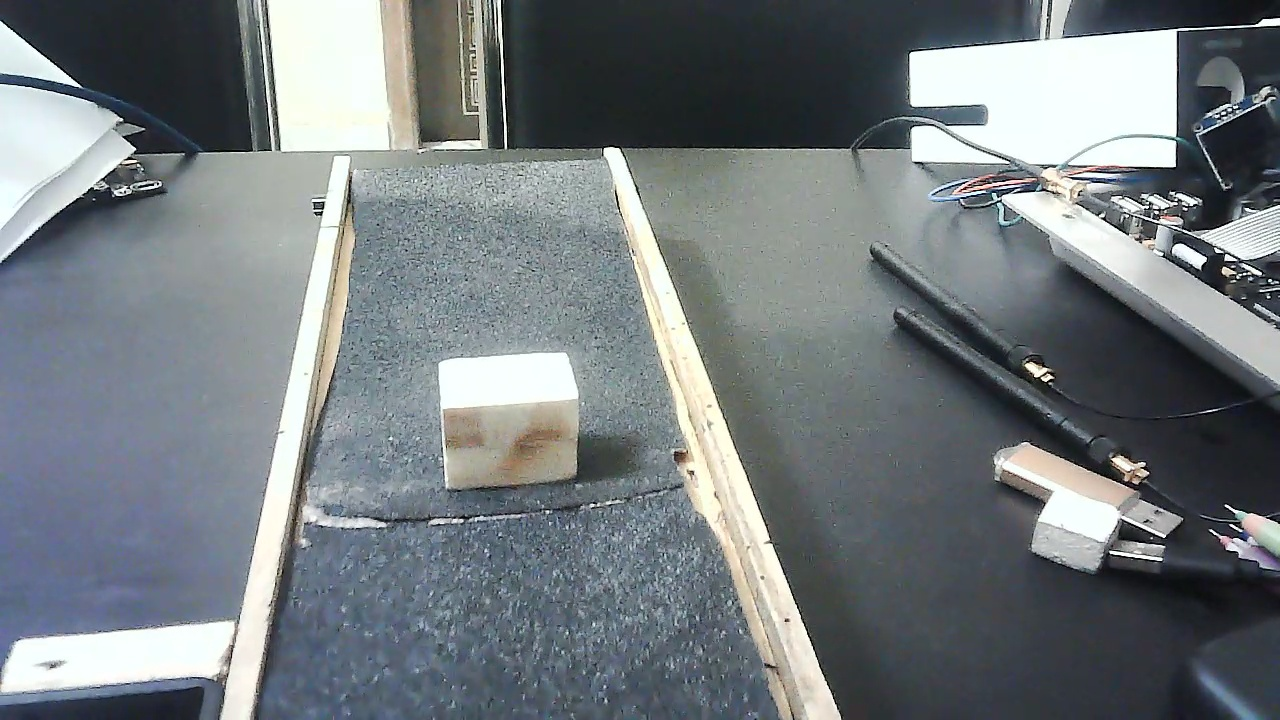Medium: (440, 350, 580, 490)
